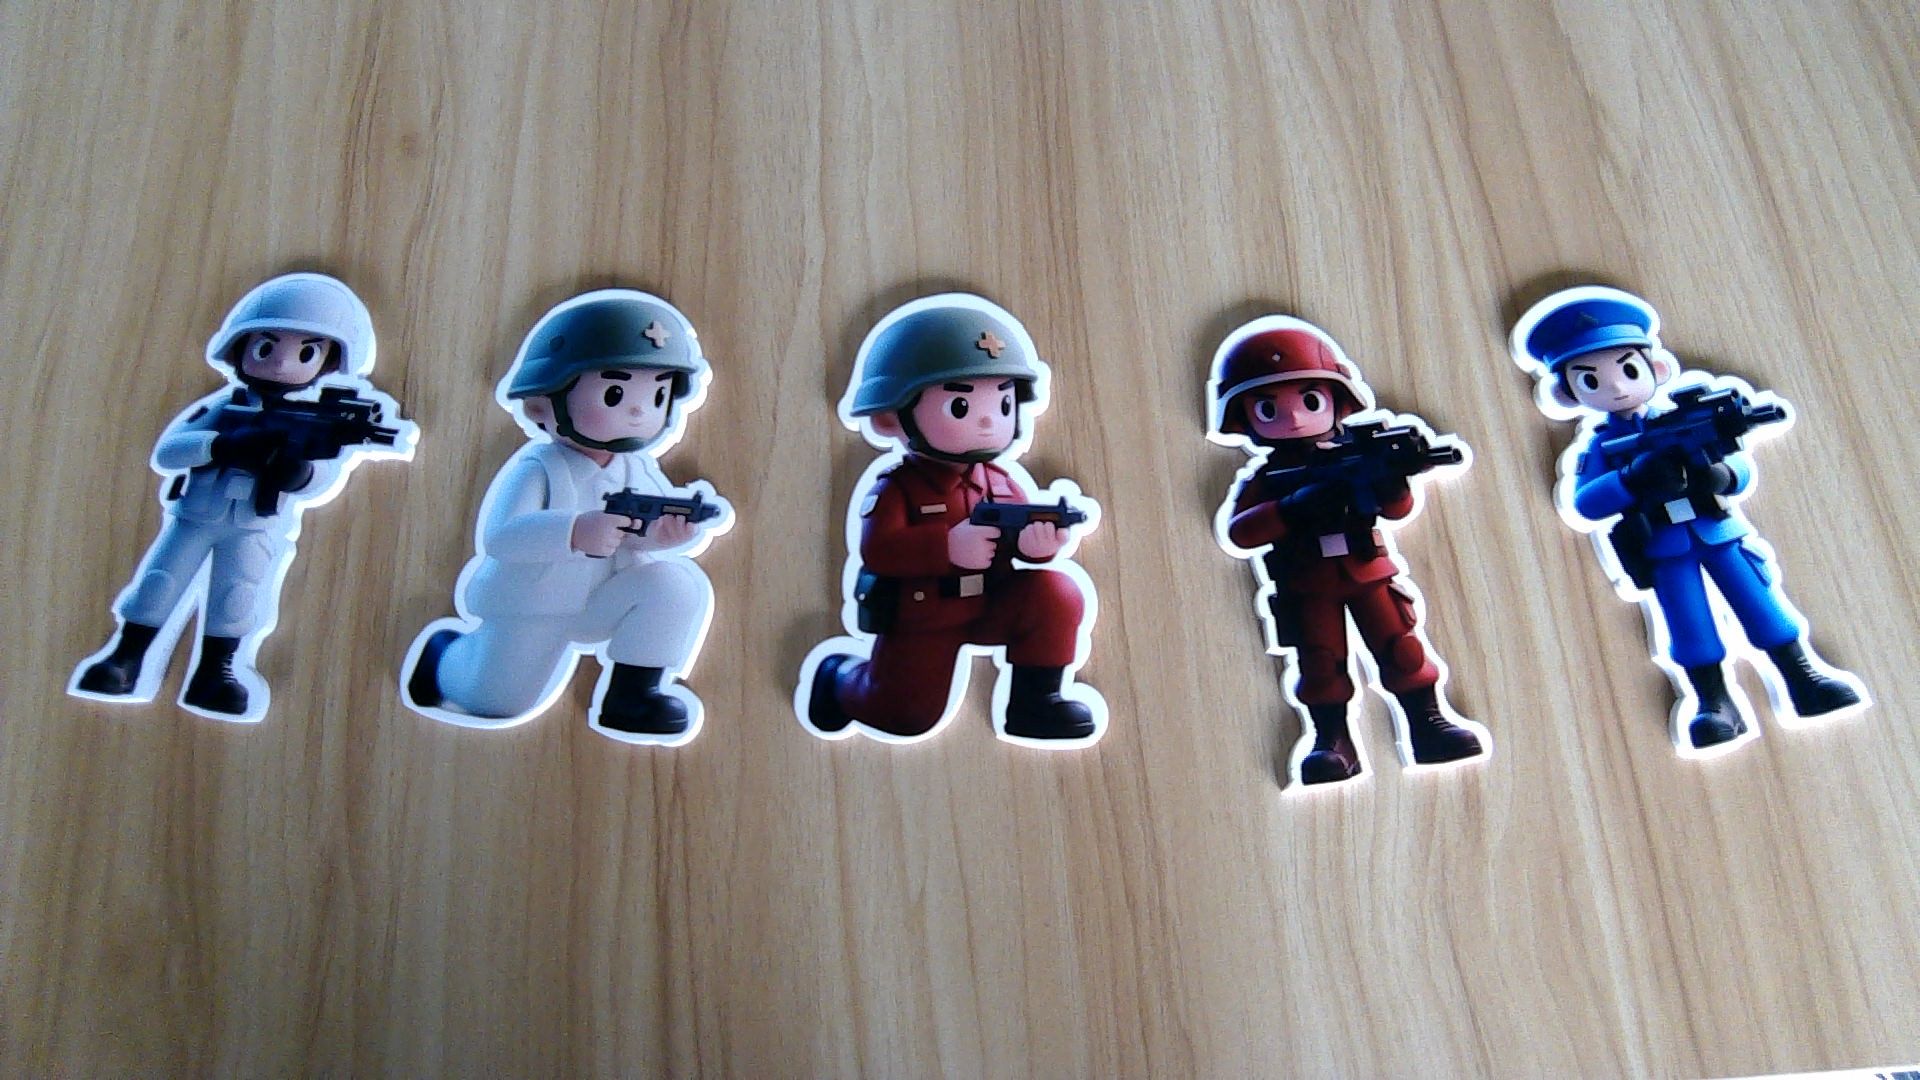人质: (62, 393, 407, 727), (401, 444, 737, 750)
敌人1: (1193, 447, 1495, 795), (791, 465, 1116, 760)
敌人2: (1549, 414, 1898, 762)
